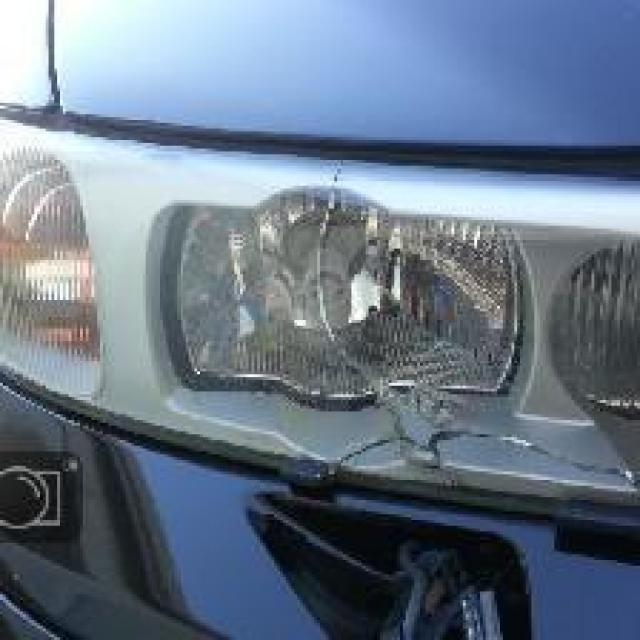damaged: (300, 154, 637, 512)
